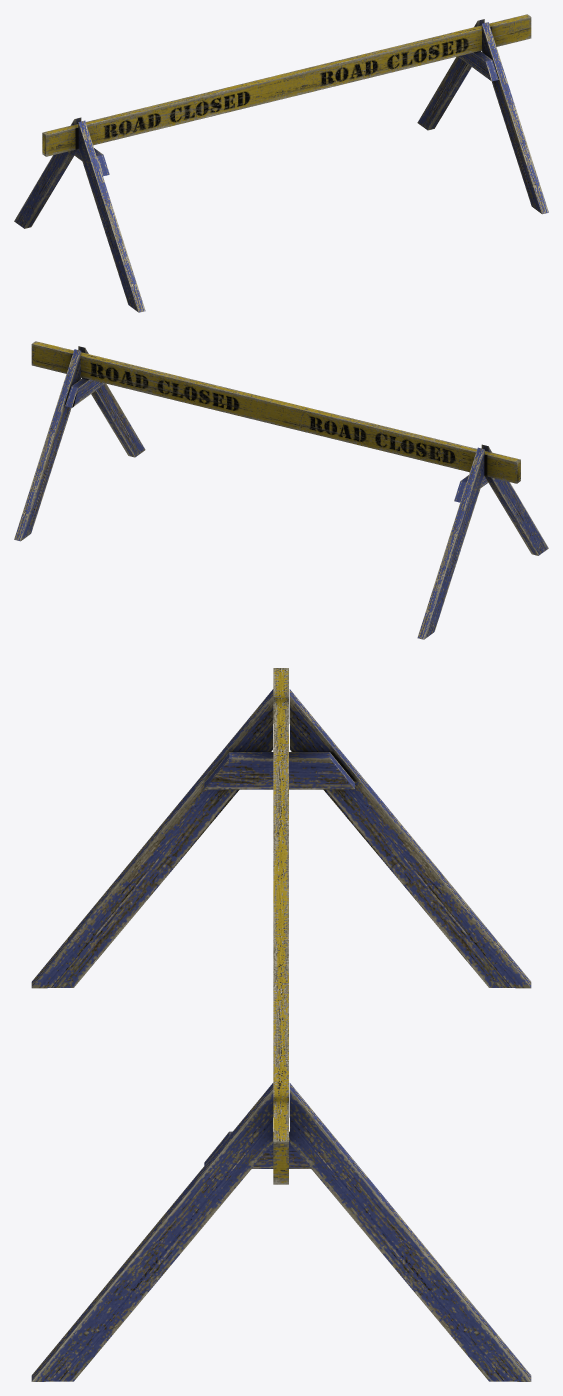
File: barrier_wooden.fbx
3 views of the same model, one above another, from view 1: azimuth 30°, elevation 25°; view 2: azimuth 150°, elevation 25°; view 3: azimuth 270°, elevation 25° (orthographic). The views are drawn at different scales.
Parts seen in each view (by area): view 1: barrier_wooden; view 2: barrier_wooden; view 3: barrier_wooden.
Boxes of the visible parts, <box> form: barrier_wooden: <box>14,14,548,312</box>; barrier_wooden: <box>14,341,548,639</box>; barrier_wooden: <box>31,668,531,1381</box>.
Size of the model in its own units: 3.43 by 0.99 by 1.53.
